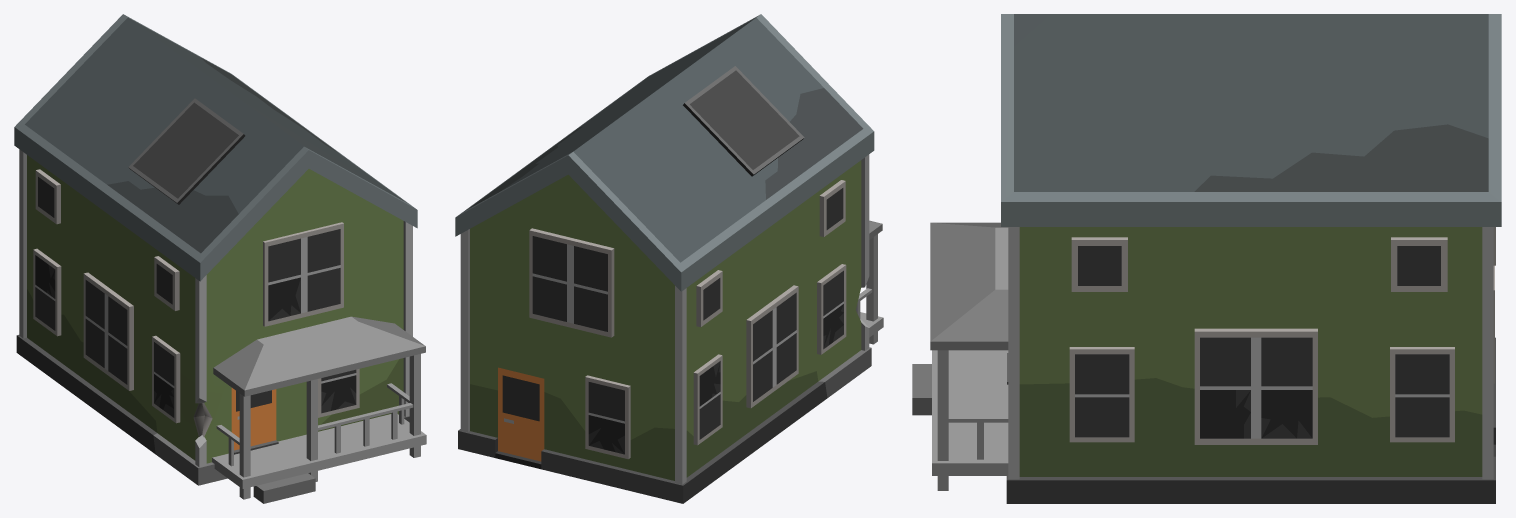
Rendered from SA_Bld_HouseTall_Damaged_02.gltf.
3 renders of one model, left to right at view 1: azimuth 30°, elevation 25°; view 2: azimuth 150°, elevation 25°; view 3: azimuth 270°, elevation 25°, orthographic. The views are drawn at different scales.
Parts seen in each view (by area): view 1: SA_Bld_HouseTall_Damaged_02; view 2: SA_Bld_HouseTall_Damaged_02; view 3: SA_Bld_HouseTall_Damaged_02.
Part boxes in pixels (left/top/right/bottom): SA_Bld_HouseTall_Damaged_02: left=14, top=14, right=426, bottom=503; SA_Bld_HouseTall_Damaged_02: left=455, top=14, right=883, bottom=503; SA_Bld_HouseTall_Damaged_02: left=912, top=14, right=1501, bottom=503.
Size of the model in its own units: 10.63 by 14.52 by 18.52.
1 material, 1 textured.
